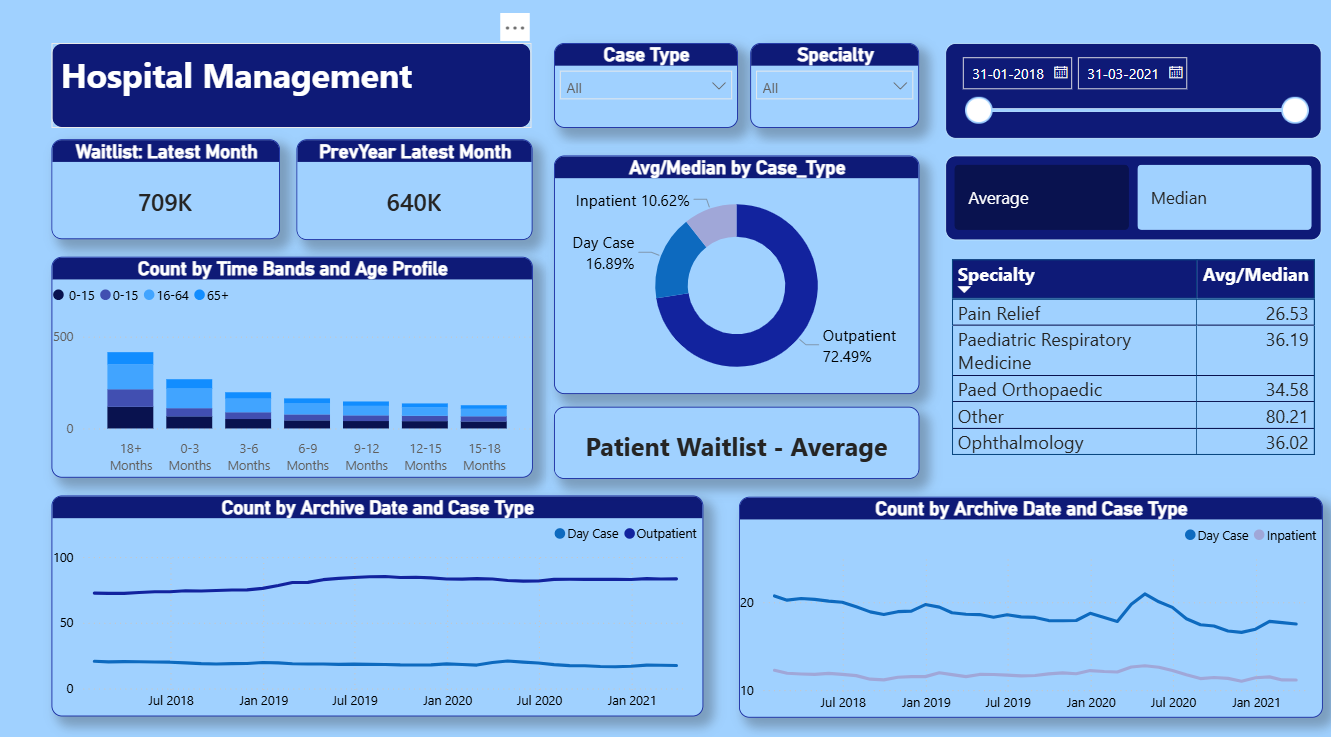

The dashboard page shown, as its layout file describes it:
{"tool":"powerbi","page":{"name":"Summary","canvas":[1280,720],"ordinal":0},"visuals":[{"type":"cardVisual","title":"Waitlist: Latest Month","fields":{"Data":["Data.Lates Month Waitlist"]},"box":[54.8,139.3,217.9,95.2],"z":0},{"type":"cardVisual","title":"PrevYear Latest Month","fields":{"Data":["Data.PY Latest month waitlist"]},"box":[288.3,139,224.7,96.1],"z":1000},{"type":"advancedSlicerVisual","fields":{"Values":["Calculation Method.Calc Method"]},"box":[906.5,154.5,358.4,80.5],"z":2000},{"type":"donutChart","fields":{"Category":["Data.Case_Type"],"Y":["Data.Avg/Median"]},"box":[533.8,154.5,348.1,227.3],"z":3000},{"type":"columnChart","title":"Count by Time Bands and Age Profile","fields":{"Category":["Data.Time_Bands"],"Y":["Data.Avg/Median"],"Series":["Data.Age_Profile"]},"box":[54.8,251.2,458.3,210.7],"z":4000},{"type":"tableEx","fields":{"Values":["Data.Specialty","Data.Avg/Median"]},"box":[906.5,249.4,358.4,213],"z":5000},{"type":"lineChart","title":"Count by Archive Date and Case Type","fields":{"Y":["Data.Avg/Median"],"Series":["Data.Case_Type"],"Category":["Data.Archive_Date"]},"box":[55.2,478.8,620.4,210],"z":6000},{"type":"lineChart","title":"Count by Archive Date and Case Type","fields":{"Y":["Data.Avg/Median"],"Series":["Data.Case_Type"],"Category":["Data.Archive_Date"]},"box":[709.1,479.2,555.8,210.4],"z":7000},{"type":"slicer","fields":{"Values":["Data.Archive_Date"]},"box":[906.5,48.1,358.4,90.9],"z":8000},{"type":"slicer","title":"Case Type","fields":{"Values":["Data.Case_Type"]},"box":[533.8,48.1,175.3,80.5],"z":9000},{"type":"slicer","title":"Specialty","fields":{"Values":["Data.Specialty"]},"box":[720.8,48.1,161,80.5],"z":10000},{"type":"textbox","box":[54.8,47.6,457.1,81],"z":11000},{"type":"cardVisual","fields":{"Data":["Data.Dynamic Title"]},"box":[533.8,393.5,348.1,68.8],"z":12000}]}

Visuals, with their boxes in screenshot pixels (x1, y1, x2, y2), scaled from the page's 1280x720 canvas onto the 1331x737 screenshot:
"Waitlist: Latest Month" cardVisual: <bbox>57, 143, 284, 240</bbox>
"PrevYear Latest Month" cardVisual: <bbox>300, 142, 533, 241</bbox>
advancedSlicerVisual - Calculation Method.Calc Method: <bbox>943, 158, 1315, 241</bbox>
donutChart - Data.Case_Type x Data.Avg/Median: <bbox>555, 158, 917, 391</bbox>
"Count by Time Bands and Age Profile" columnChart: <bbox>57, 257, 534, 473</bbox>
tableEx - Data.Specialty x Data.Avg/Median: <bbox>943, 255, 1315, 473</bbox>
"Count by Archive Date and Case Type" lineChart: <bbox>57, 490, 703, 705</bbox>
"Count by Archive Date and Case Type" lineChart: <bbox>737, 491, 1315, 706</bbox>
slicer - Data.Archive_Date: <bbox>943, 49, 1315, 142</bbox>
"Case Type" slicer: <bbox>555, 49, 737, 132</bbox>
"Specialty" slicer: <bbox>750, 49, 917, 132</bbox>
textbox: <bbox>57, 49, 532, 132</bbox>
cardVisual - Data.Dynamic Title: <bbox>555, 403, 917, 473</bbox>
